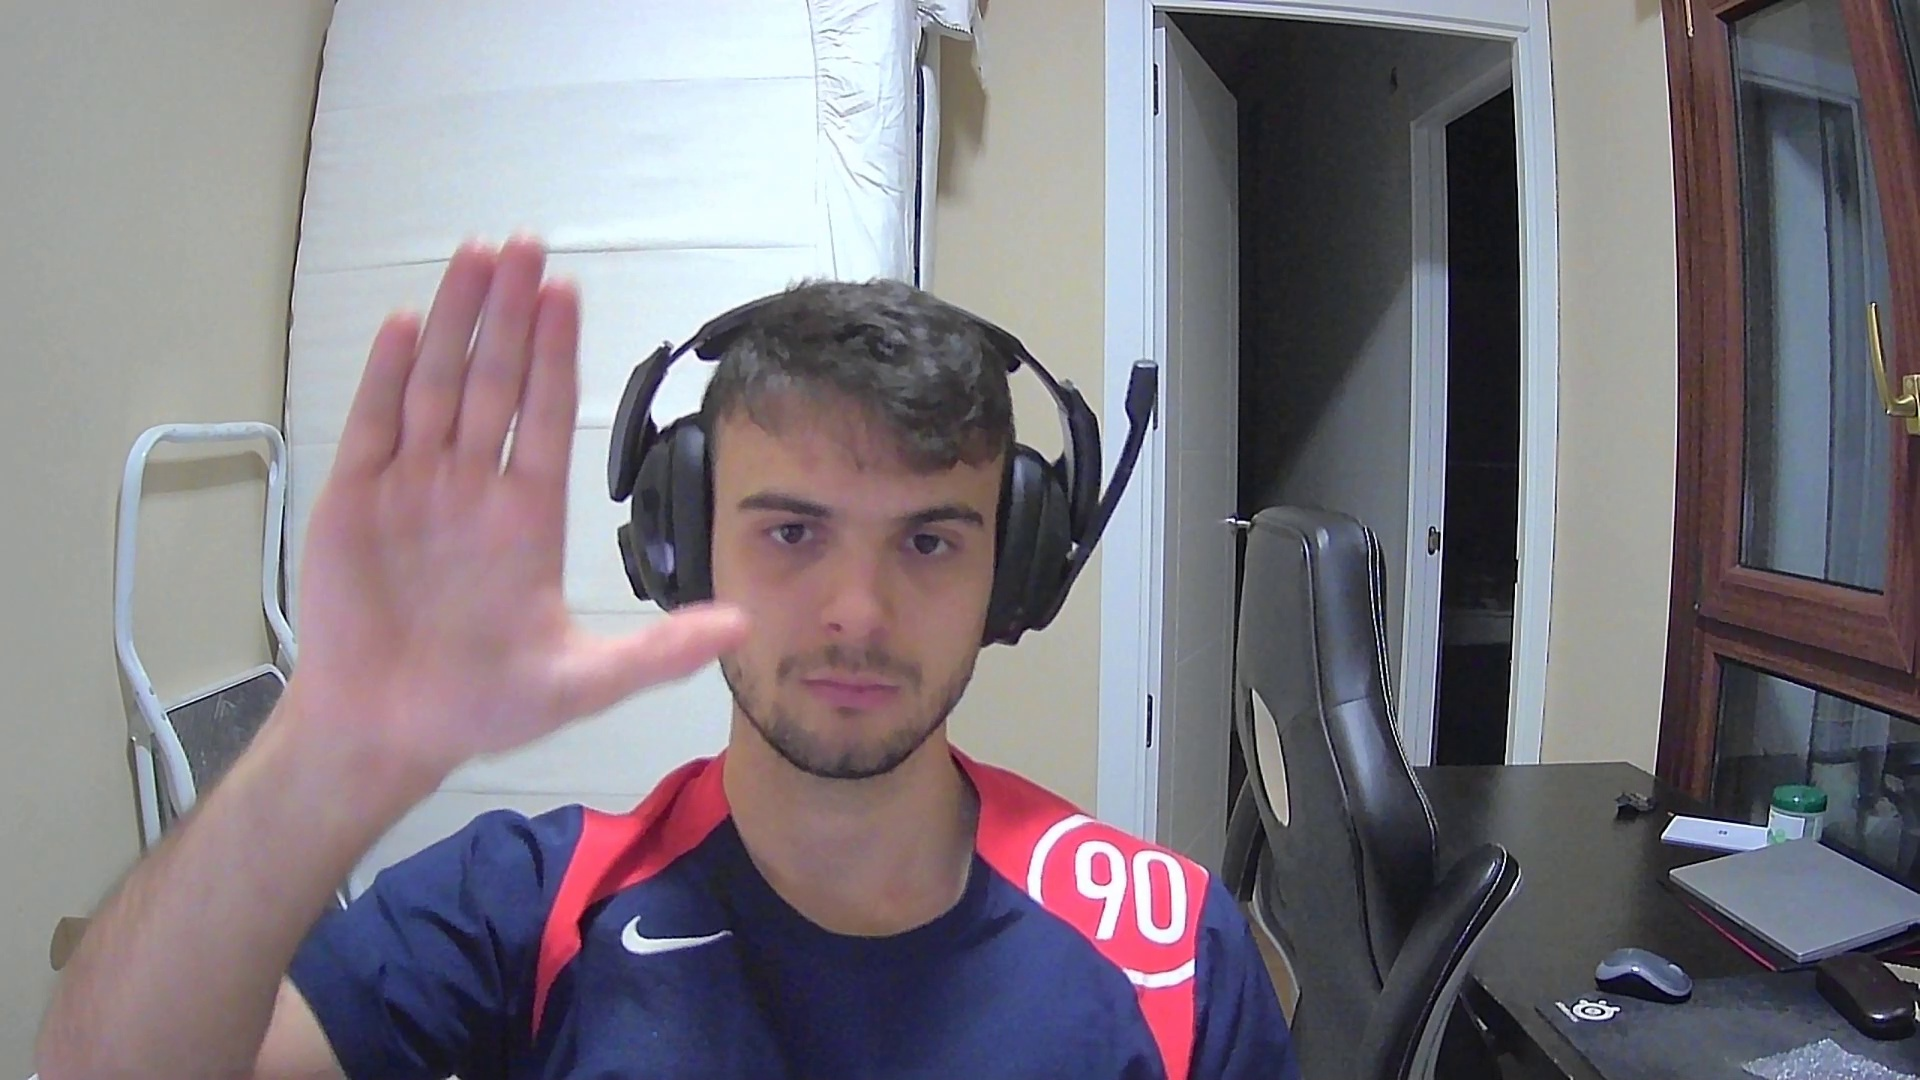Palm: (273, 228, 750, 727)
